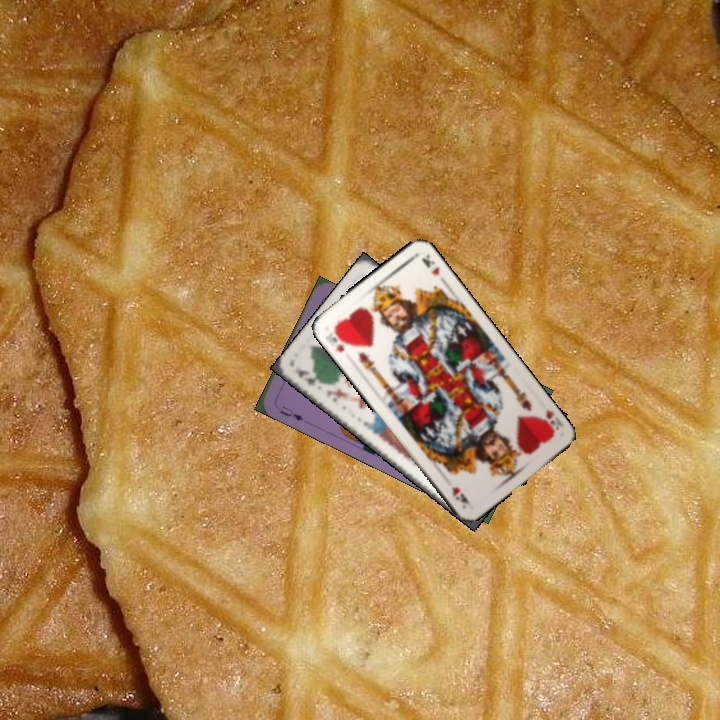EU: (276, 401, 306, 423)
GK: (292, 365, 327, 389)
HK: (535, 405, 565, 438), (326, 323, 351, 355)
